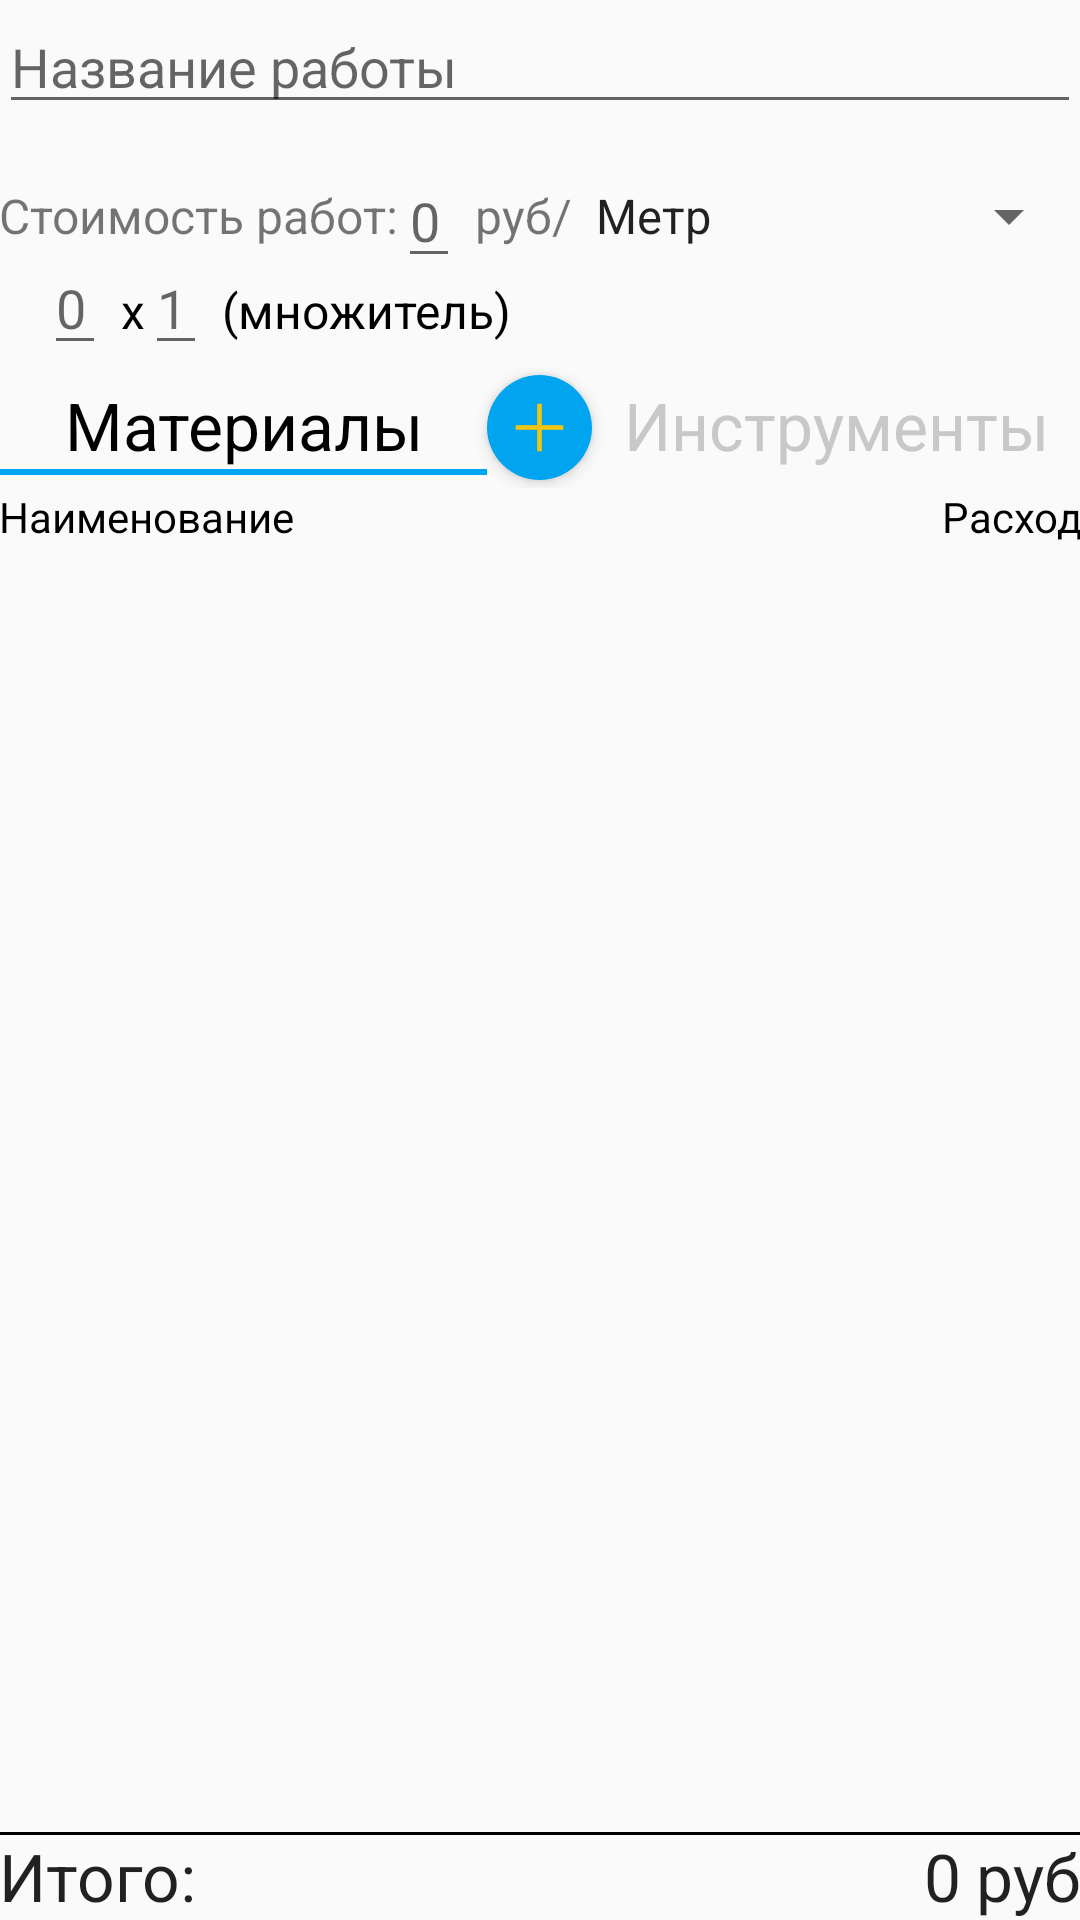

Screen size 1080w x 1920h. Icon name, then its box in pixels as (x1, y1, x2, y2):
plus: (487, 375, 592, 480)
